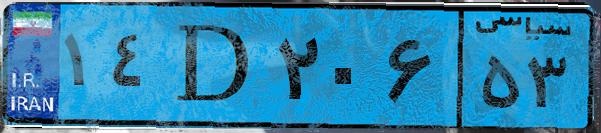0: (330, 28, 385, 110)
1: (57, 26, 110, 100)
2: (270, 28, 330, 110)
3: (525, 38, 570, 115)
4: (110, 28, 158, 98)
5: (475, 38, 525, 113)
6: (385, 28, 445, 110)
D: (158, 12, 270, 120)
